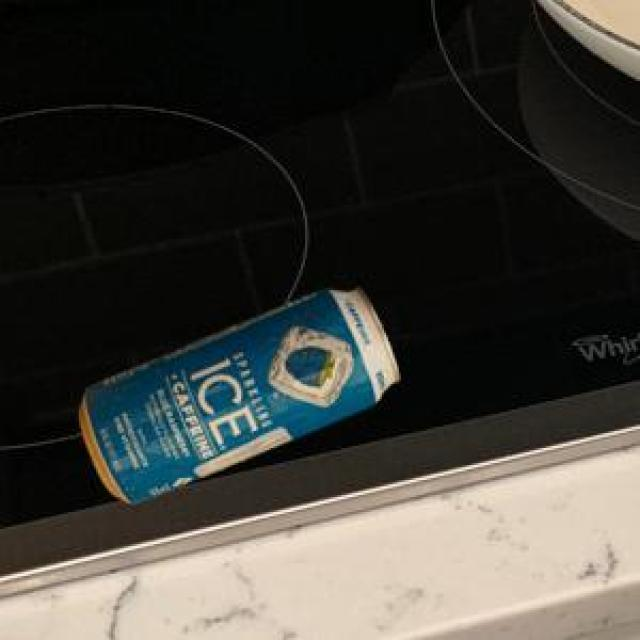Can: (76, 285, 396, 500)
